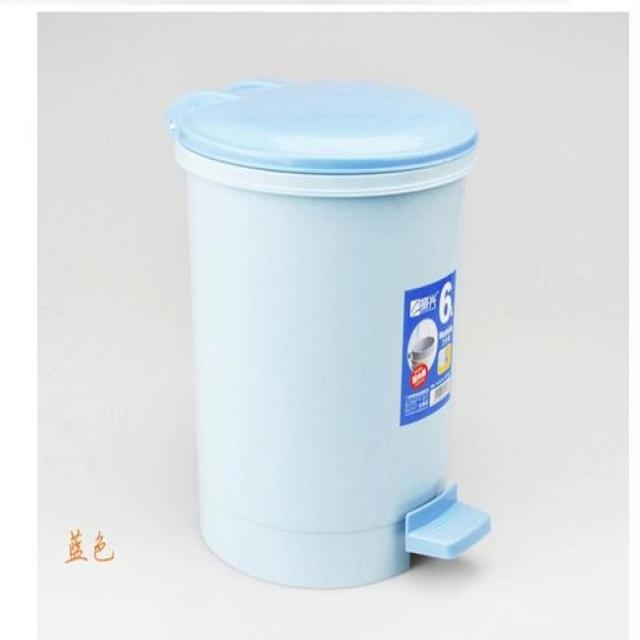dustbin: (164, 71, 496, 596)
